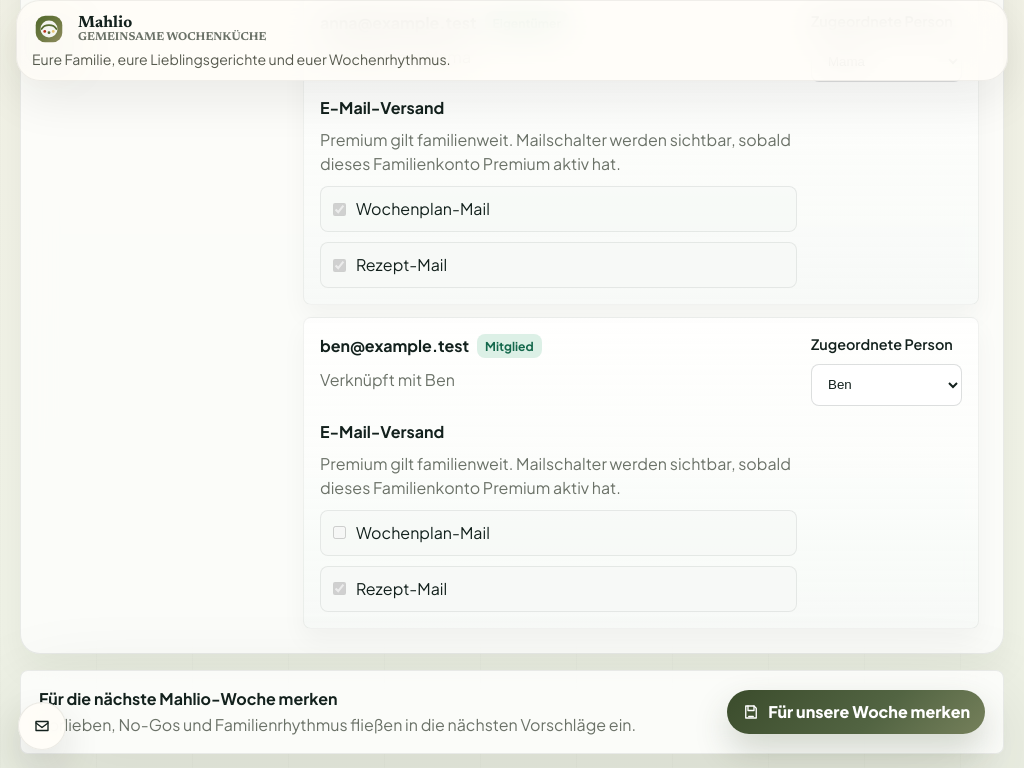
Test: Mealplanner app › shows specific feedback after linking a family account
(page scrolled)
Select "Mama" in the dropdown labelled "Zugeordnete Person". click: (886, 385)
box: x1=811 y1=364 x2=962 y2=406
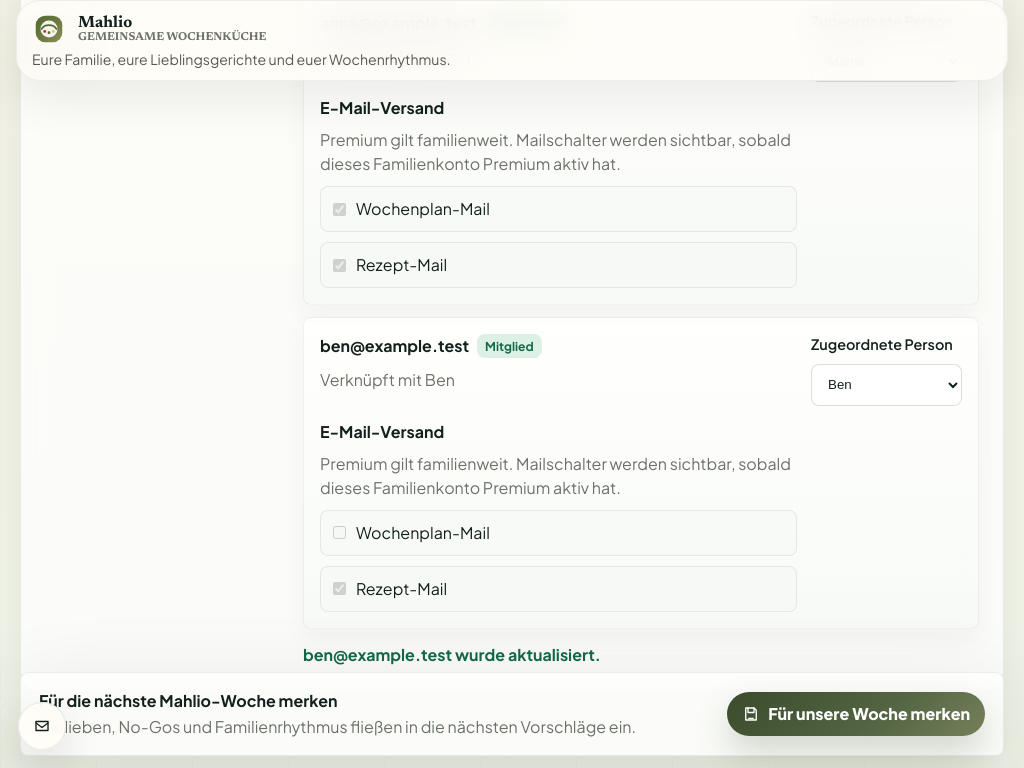
Expected: the text "ben@example.test wurde aktualisiert." is shown, x1=303 y1=644 x2=601 y2=665
